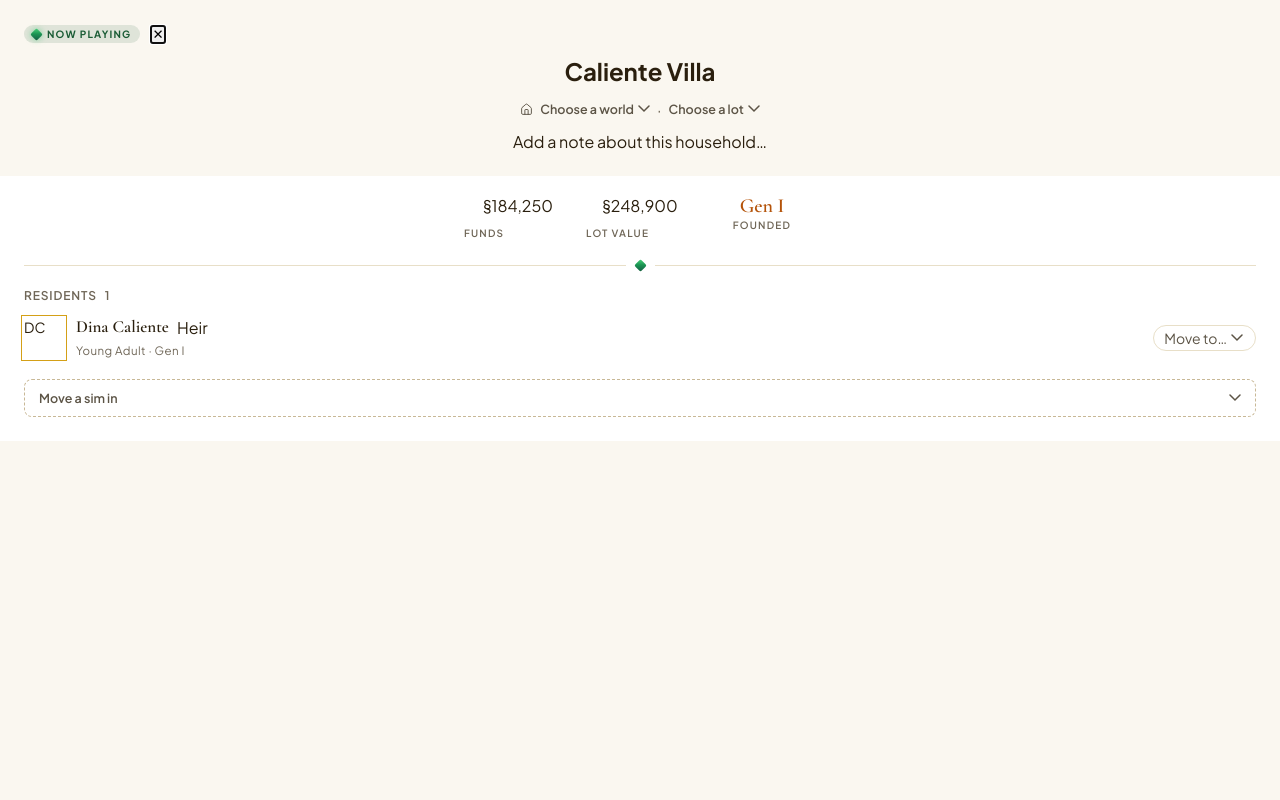
Test case: HouseholdDrawer › notes when every sim already lives here
Click the button "Move a sim in". click: (78, 398)
box: [24,379,1256,417]
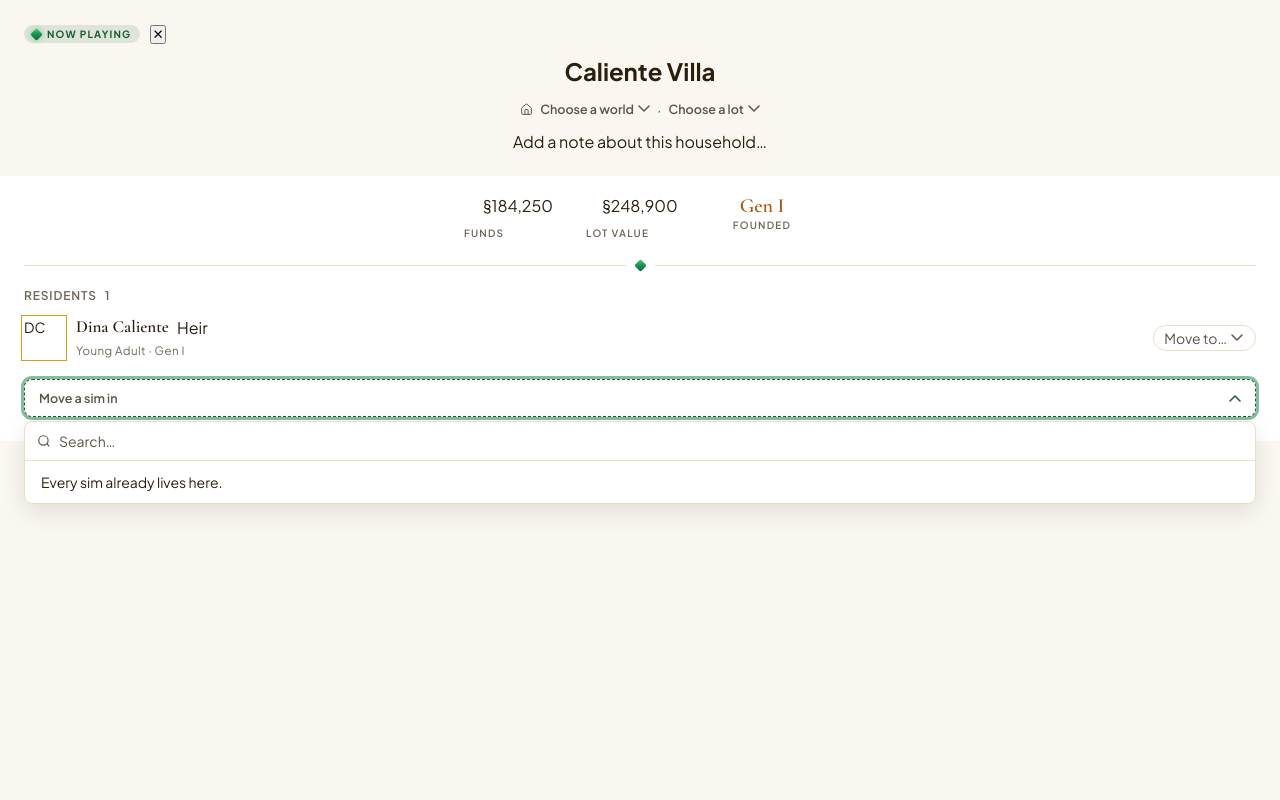
Result: the option "Every sim already lives here." is shown at [41,473,223,491]
